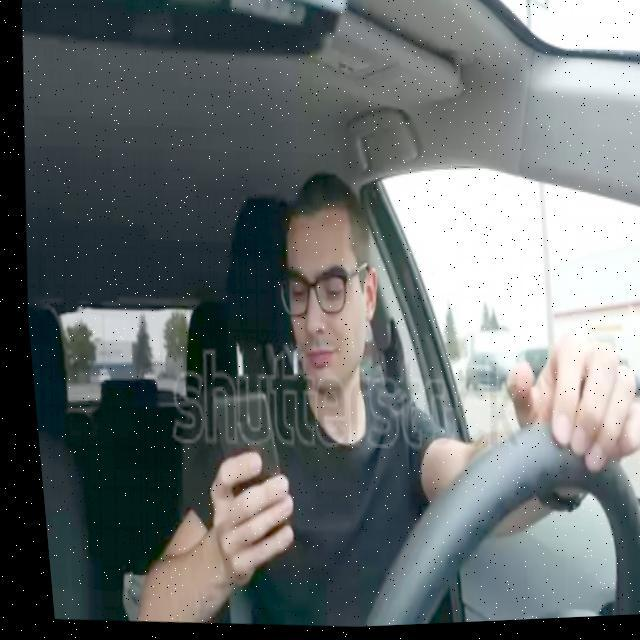PhoneCall: (194, 390, 284, 558)
